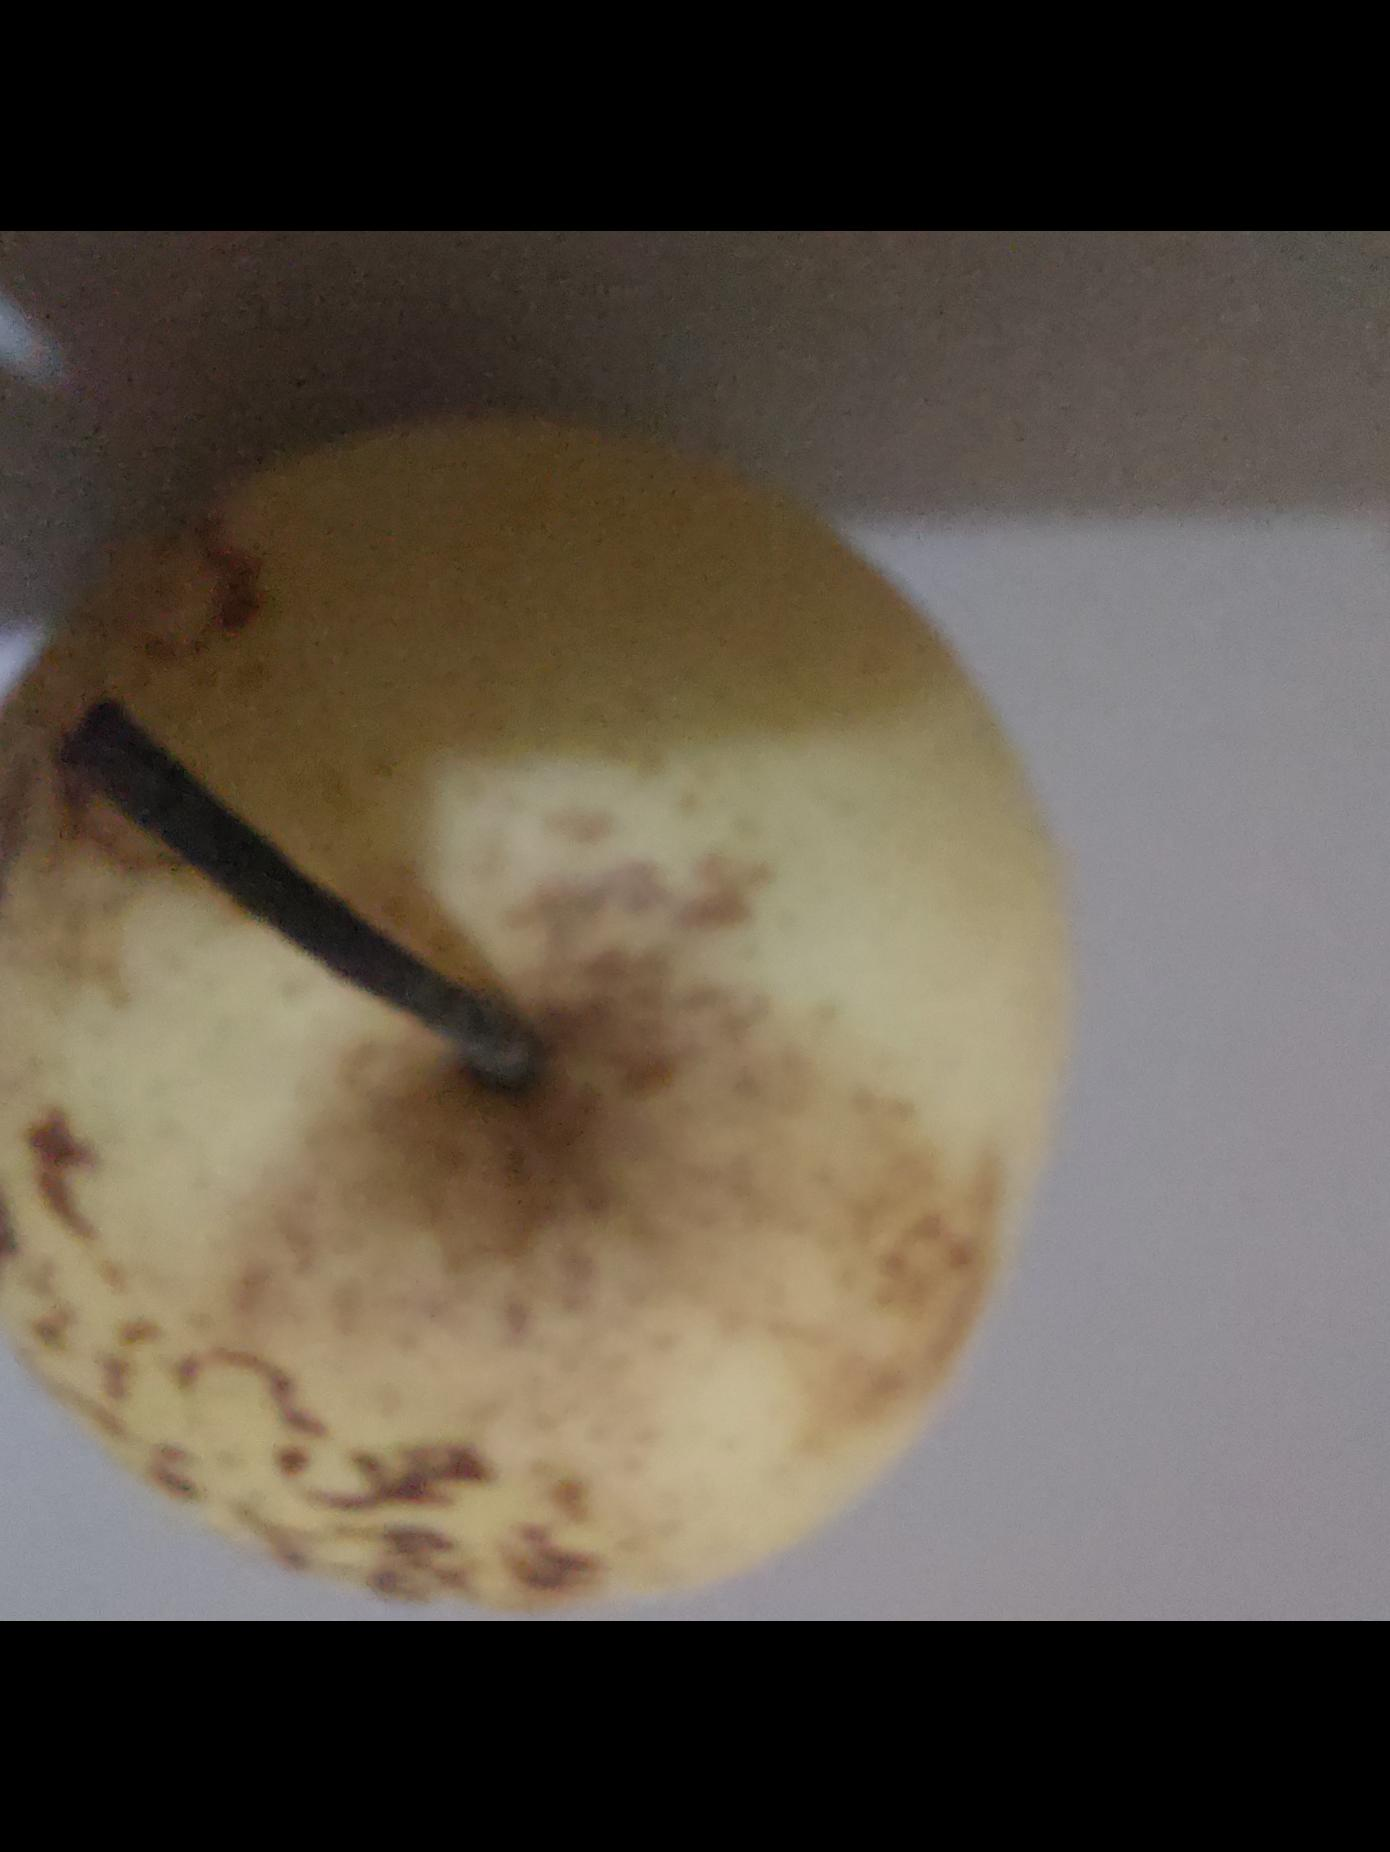Bad Pear: (0, 396, 1056, 1602)
